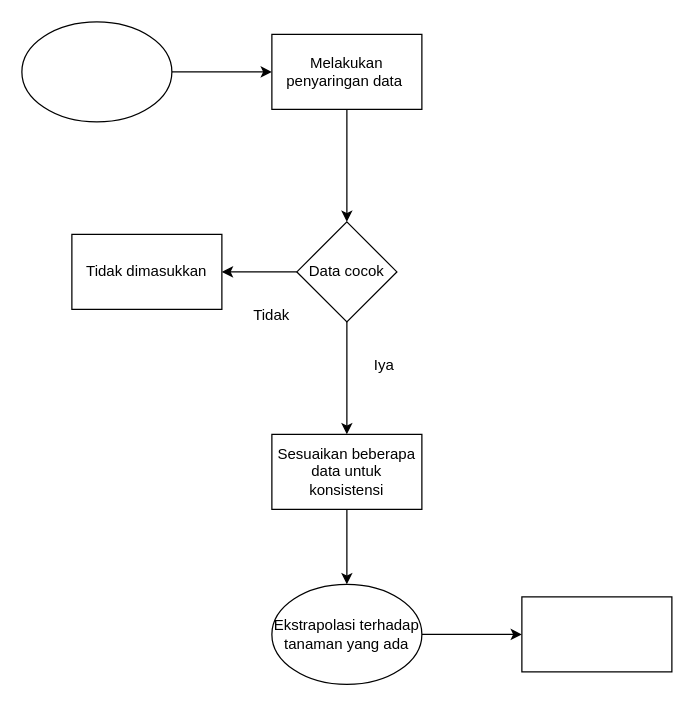
Image size: 694x706. Some labels were removed from this diagram. The centre of each missing label's shape, as x and y in pixels:
"Mencari dan mengumpulkan data yang tersedia" belongs at point 96,71.
"Menetapkan tingkat kepercayaan untuk memeperkirakan hasil analisis" belongs at point 596,634.
